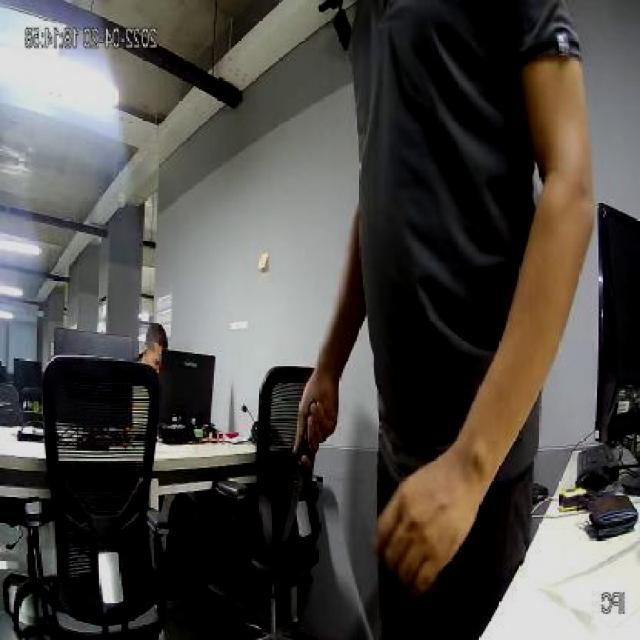knife: (277, 425, 320, 552)
